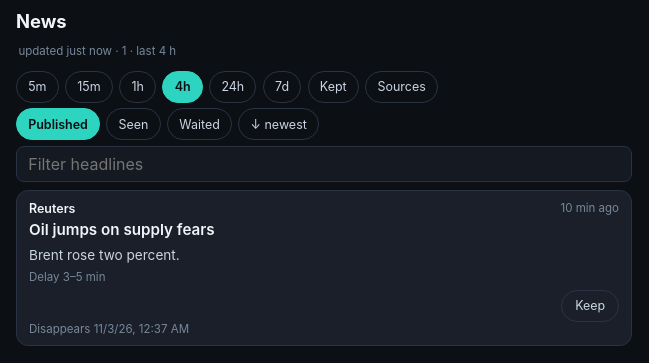
Scenario: NewsScreen › asks for minutes and a bigger limit when the window is a week
The image size is (649, 363).
Expected: the text "Oil jumps on supply fears" is shown, [29,220,215,239]
Click the button "7d" at {"x": 282, "y": 87}, box [263,71,301,103]
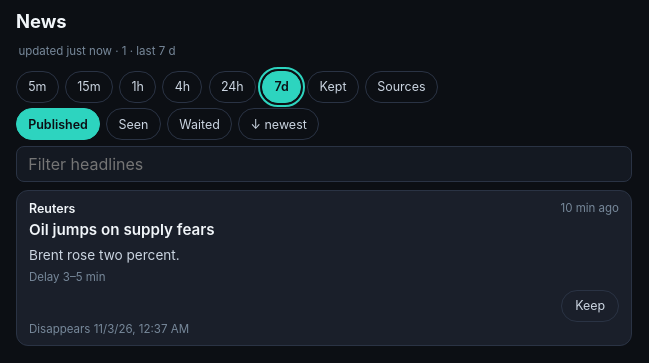
Now the button "updated just now · 1 · last 7 d" is shown, box [16,37,178,65]
